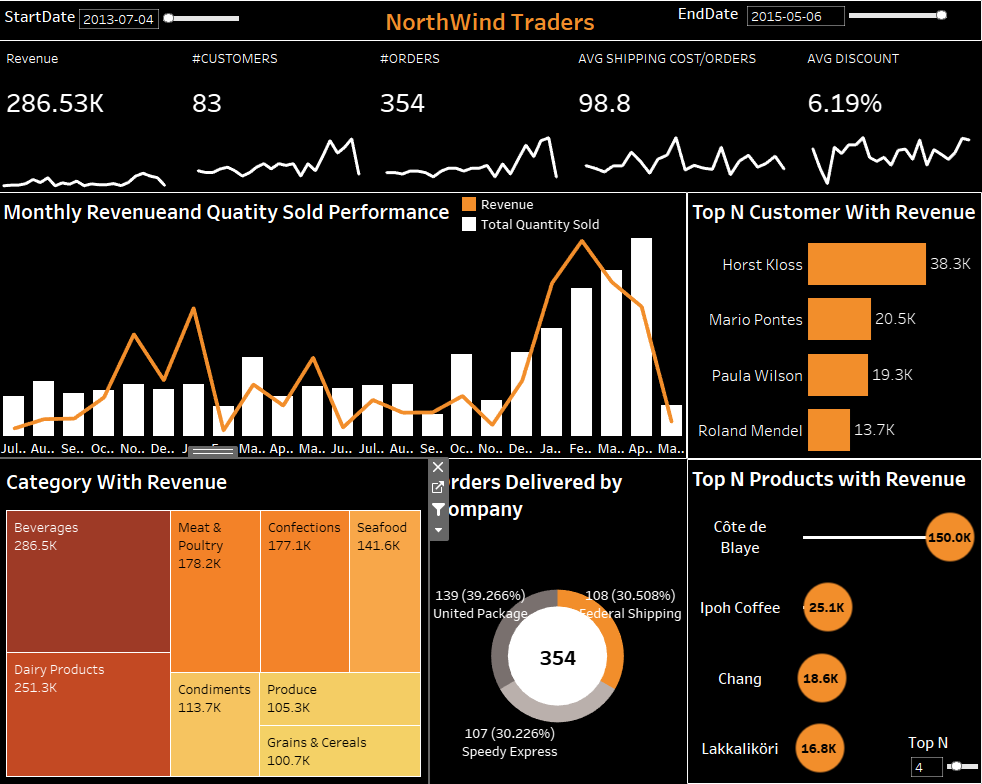

This screenshot's page, from the dashboard's own definition file:
{"tool":"tableau","page":{"name":"NorthWind Traders","canvas":[1000,800],"ordinal":0},"visuals":[{"type":"text","box":[8,8,984,41]},{"type":"parameter","param":"[Parameters].[Parameter 3]","box":[682,11,278,28]},{"type":"parameter","param":"[Parameters].[Parameter 2]","box":[14,14,238,28]},{"type":"worksheet","title":"Revenue","mark":"Automatic","box":[8,49,186,88.1]},{"type":"worksheet","title":"#CUSTOMERS","mark":"Automatic","box":[194,49,188,88.1]},{"type":"worksheet","title":"#ORDERS","mark":"Automatic","box":[382,49,198,88.1]},{"type":"worksheet","title":"AVG SHIPPING COST/ORDERS","mark":"Automatic","box":[580,49,229,88.1]},{"type":"worksheet","title":"AVG DISCOUNT","mark":"Automatic","box":[809,49,183,88.1]},{"type":"worksheet","title":"Revenue Trend","mark":"Automatic","rows":["Calculation_1992279917696417792"],"cols":["orderDate"],"box":[8,137.1,186,62.9]},{"type":"worksheet","title":"Customer Trend","mark":"Line","rows":["customerID"],"cols":["orderDate"],"box":[194,137.1,188,62.9]},{"type":"worksheet","title":"Orders Trend","mark":"Automatic","rows":["orderID"],"cols":["orderDate"],"box":[382,137.1,198,62.9]},{"type":"worksheet","title":"Shipping Cost Trend","mark":"Automatic","rows":["freight"],"cols":["orderDate"],"box":[580,137.1,229,62.9]},{"type":"worksheet","title":"Discount Trend","mark":"Automatic","rows":["discount"],"cols":["orderDate"],"box":[809,137.1,183,62.9]},{"type":"worksheet","title":"Monthly Revenueand Quatity Sold Performance   ","mark":"Bar","rows":["quantity","Calculation_1992279917696417792"],"cols":["orderDate"],"box":[8,200,689,267]},{"type":"worksheet","title":"Top N Customer With Revenue","mark":"Automatic","rows":["contactName"],"cols":["Calculation_1992279917696417792"],"box":[697,200,295,267]},{"type":"legend","title":"Monthly Revenueand Quatity Sold Performance   ","param":"[federated.04ykse90k80m3015790r40lgfy2a].[:Measure Names]","box":[469,202,164,42]},{"type":"worksheet","title":"Category With Revenue","mark":"Automatic","box":[8,467,430.1,325]},{"type":"worksheet","title":"Orders Delivered by Company","mark":"Pie","rows":["orderID","orderID"],"box":[438.1,467,258.9,325]},{"type":"worksheet","title":"Top N Products with Revenue","mark":"Automatic","rows":["productName"],"cols":["Calculation_1992279917696417792","Calculation_1992279917696417792"],"box":[697,467,295,325]},{"type":"parameter","param":"[Parameters].[Parameter 1]","box":[918,740,73,50]}]}

Visuals, with their boxes in screenshot pixels (x1, y1, x2, y2), scaled from the page's 1000x800 canvas onto the 982x784 screenshot:
text: bbox=[8, 8, 974, 48]
parameter: bbox=[670, 11, 943, 38]
parameter: bbox=[14, 14, 247, 41]
"Revenue" worksheet: bbox=[8, 48, 191, 134]
"#CUSTOMERS" worksheet: bbox=[191, 48, 375, 134]
"#ORDERS" worksheet: bbox=[375, 48, 570, 134]
"AVG SHIPPING COST/ORDERS" worksheet: bbox=[570, 48, 794, 134]
"AVG DISCOUNT" worksheet: bbox=[794, 48, 974, 134]
"Revenue Trend" worksheet: bbox=[8, 134, 191, 196]
"Customer Trend" worksheet (Line marks): bbox=[191, 134, 375, 196]
"Orders Trend" worksheet: bbox=[375, 134, 570, 196]
"Shipping Cost Trend" worksheet: bbox=[570, 134, 794, 196]
"Discount Trend" worksheet: bbox=[794, 134, 974, 196]
"Monthly Revenueand Quatity Sold Performance   " worksheet (Bar marks): bbox=[8, 196, 684, 458]
"Top N Customer With Revenue" worksheet: bbox=[684, 196, 974, 458]
"Monthly Revenueand Quatity Sold Performance   " legend: bbox=[461, 198, 622, 239]
"Category With Revenue" worksheet: bbox=[8, 458, 430, 776]
"Orders Delivered by Company" worksheet (Pie marks): bbox=[430, 458, 684, 776]
"Top N Products with Revenue" worksheet: bbox=[684, 458, 974, 776]
parameter: bbox=[901, 725, 973, 774]
